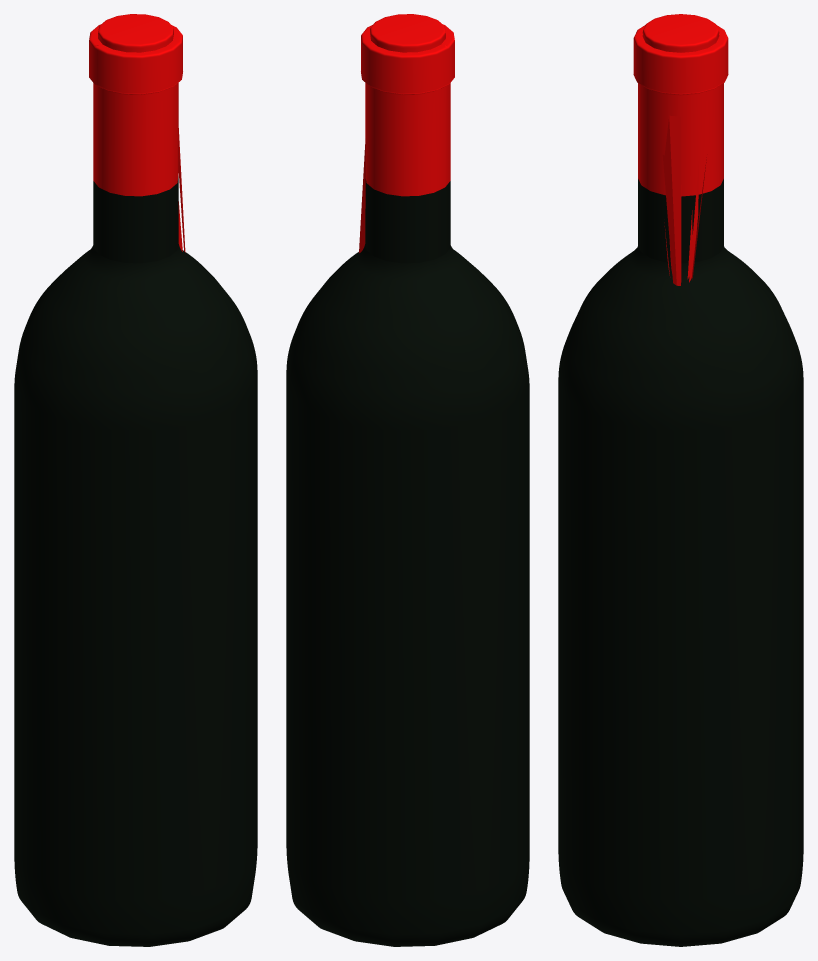
The model's file is BOuteille2.fbx.
3 renders of one model, left to right at view 1: azimuth 30°, elevation 25°; view 2: azimuth 150°, elevation 25°; view 3: azimuth 270°, elevation 25°, orthographic.
Visible parts, largest first — view 1: WineBottle; view 2: WineBottle; view 3: WineBottle.
Boxes of the visible parts, x1=… form: WineBottle: x1=14, y1=14, x2=257, y2=946; WineBottle: x1=286, y1=14, x2=529, y2=946; WineBottle: x1=558, y1=14, x2=803, y2=946.
Size of the model in its own units: 9.16 by 36.32 by 9.16.
